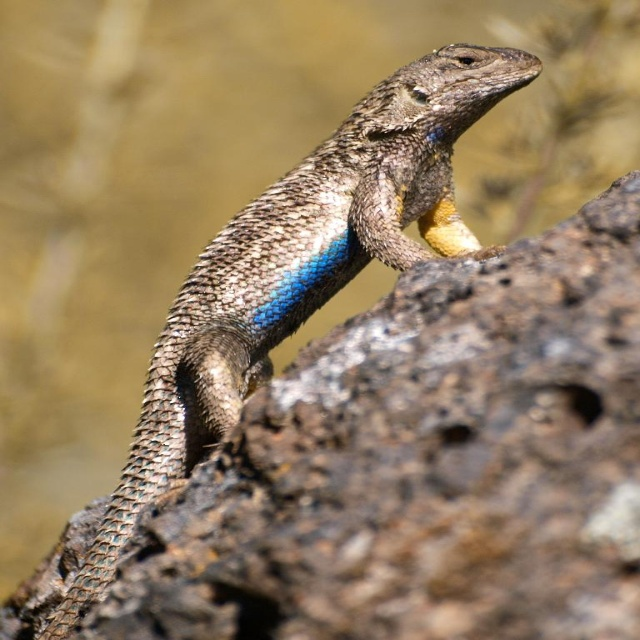Lizard: (28, 41, 544, 640)
